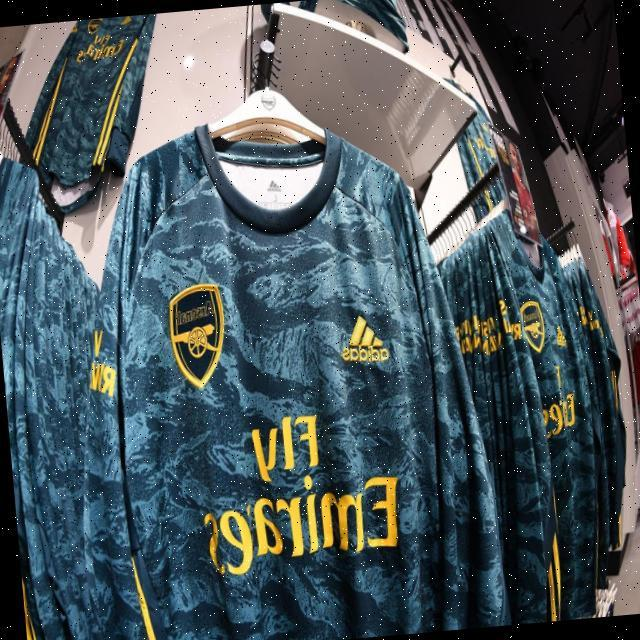Adidas: (338, 312, 390, 365), (554, 324, 566, 347)
Emirates: (202, 467, 405, 578), (537, 390, 579, 443), (75, 40, 126, 64)
